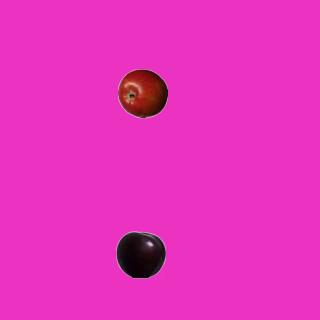Apple Braeburn: (117, 68, 167, 118)
Cherry Wax Black: (115, 229, 165, 279)
